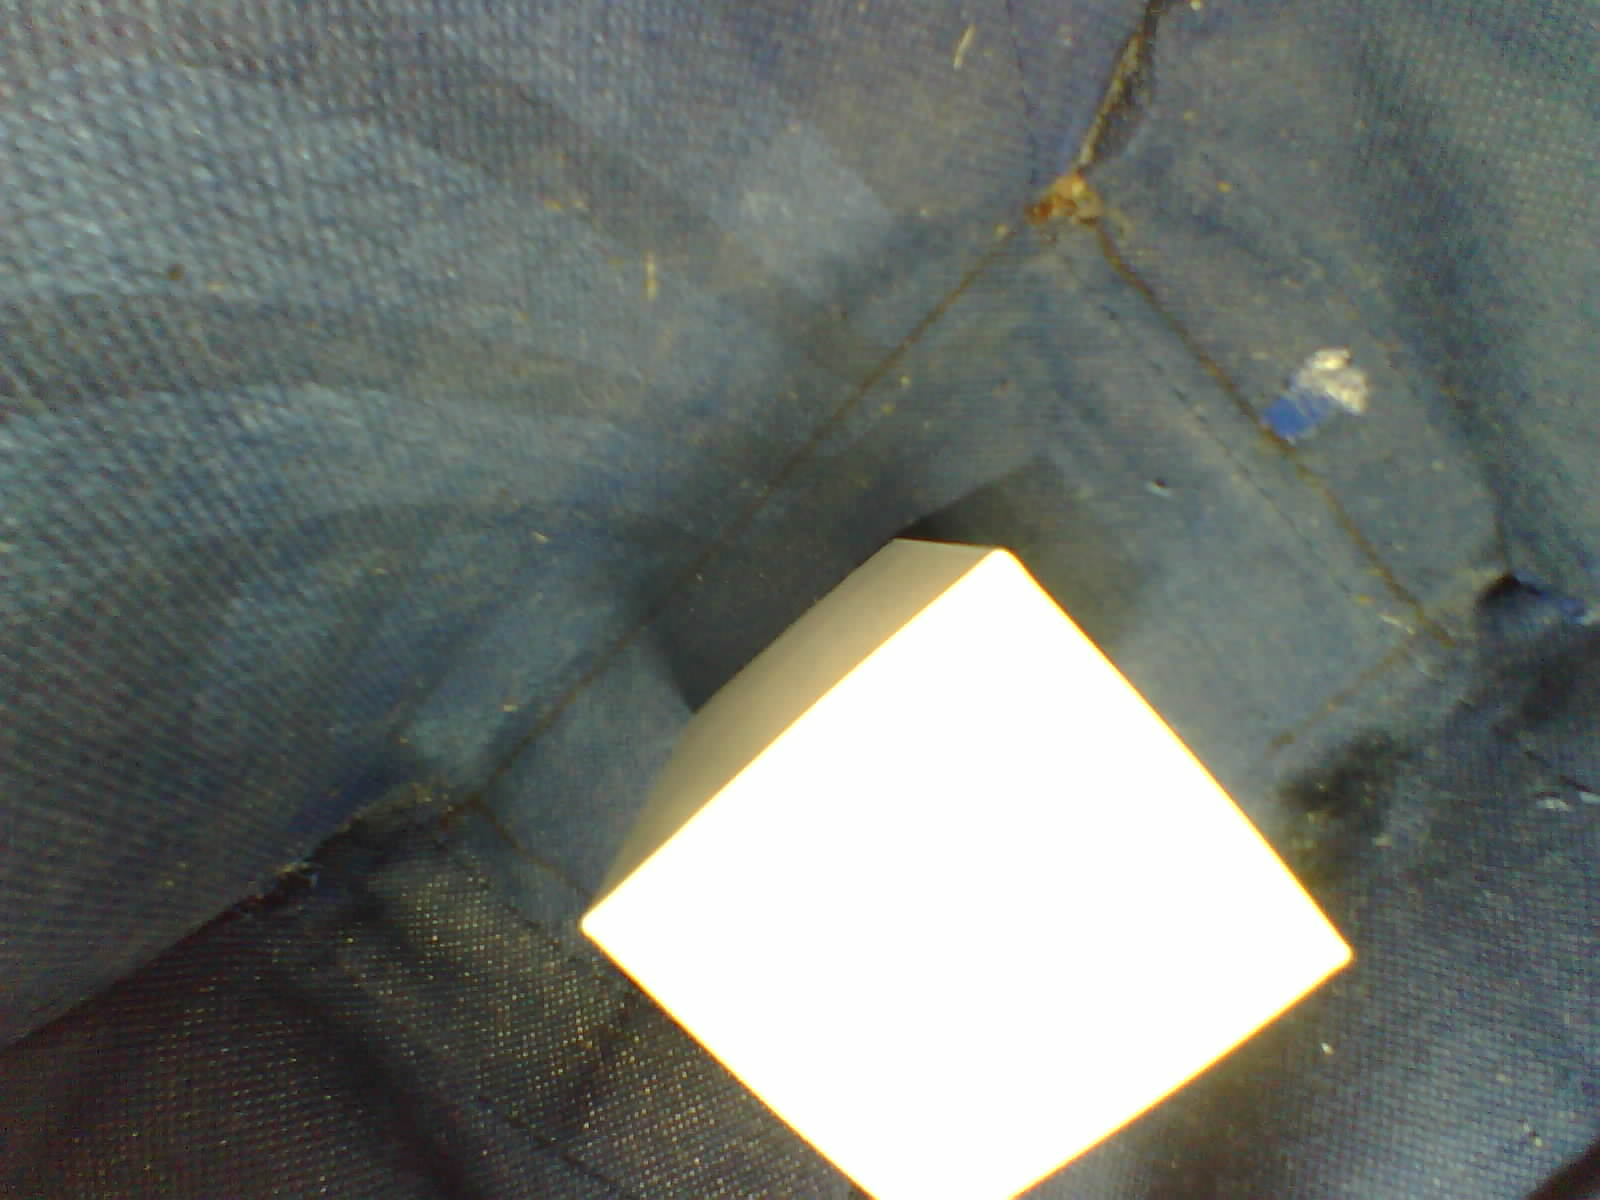cube-hard: (552, 527, 1374, 1200)
